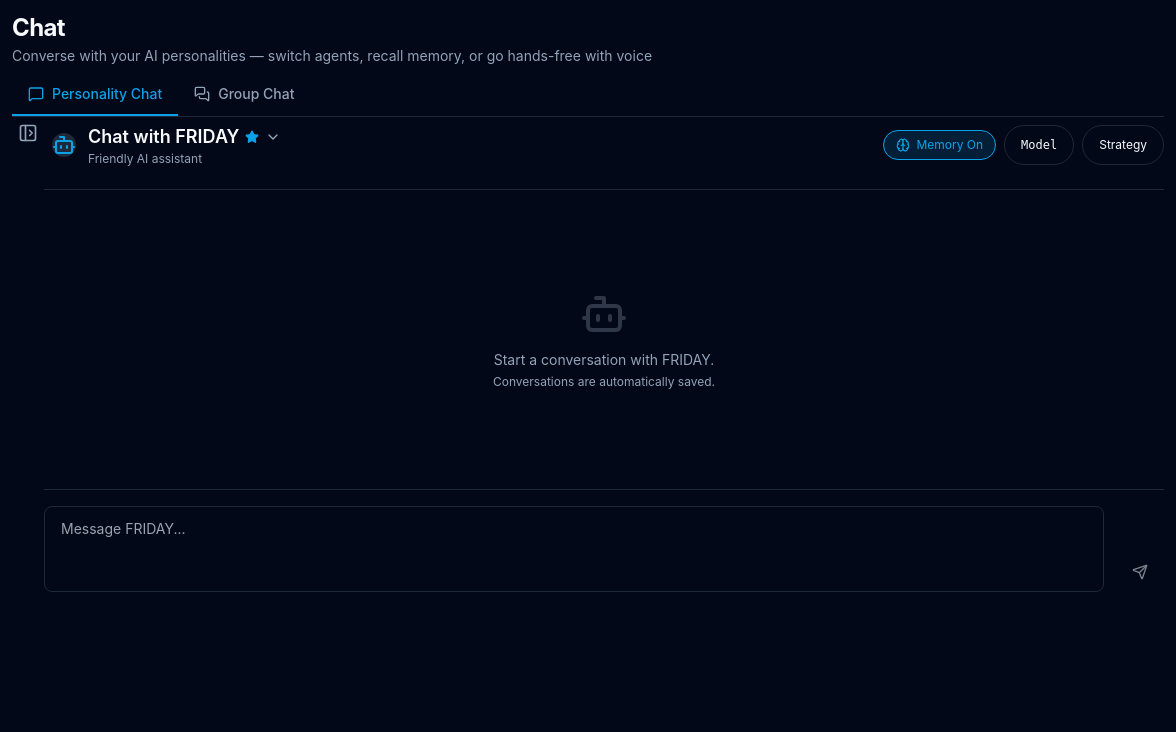
it: ChatPage › opens conversation sidebar on toggle click
The image size is (1176, 732).
#  Open it
Click the button with test id "sidebar-toggle" at (28, 133), box [12, 117, 44, 149]
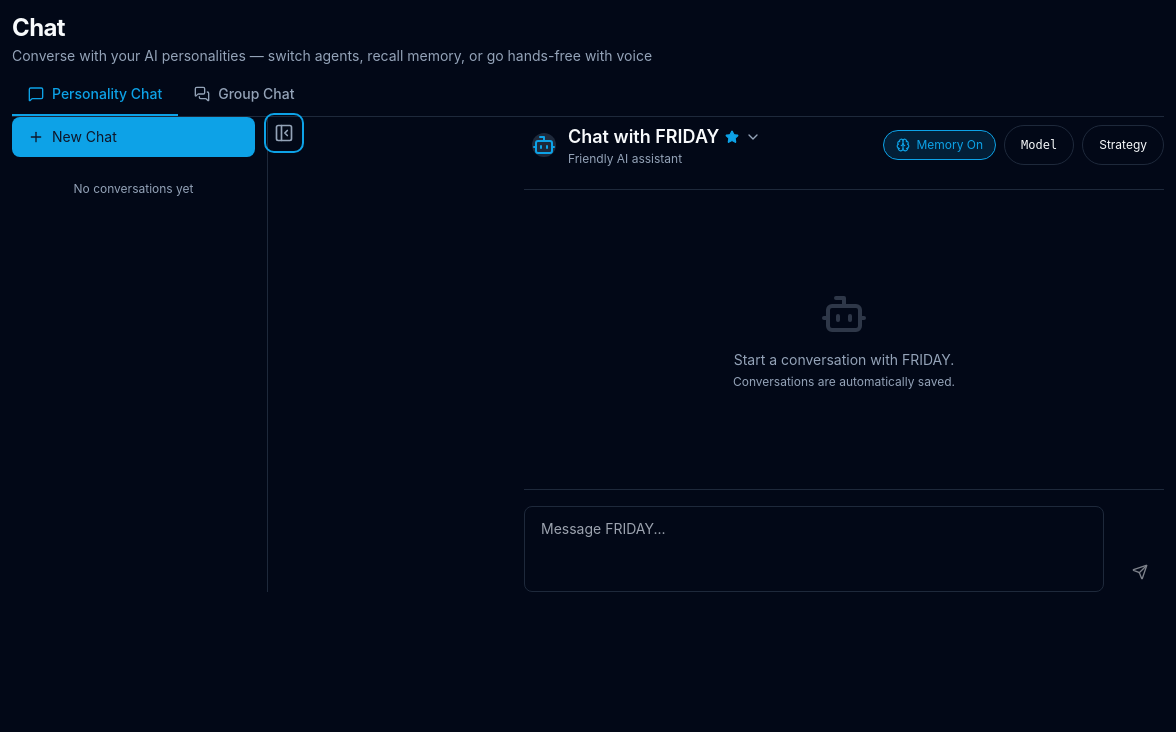
Now the element with test id "conversation-sidebar" is shown, box [12, 117, 268, 592]
Now the button with test id "new-chat-btn" is shown, box [12, 117, 255, 157]
